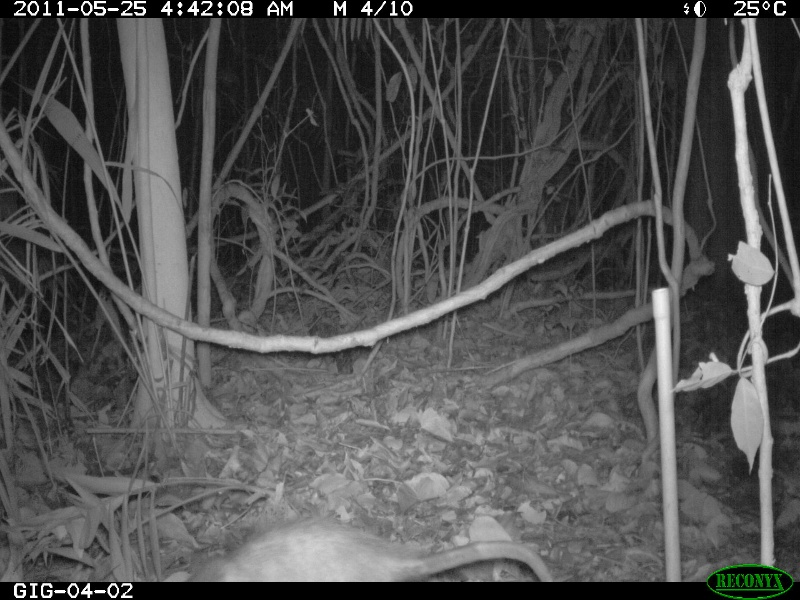opossum: (154, 512, 558, 582)
